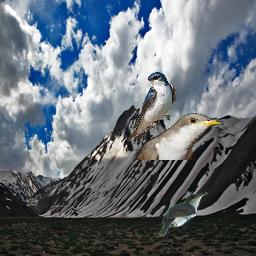Cuckoo: (136, 113, 224, 160), (158, 192, 208, 237)
Swallow: (127, 71, 176, 142)
